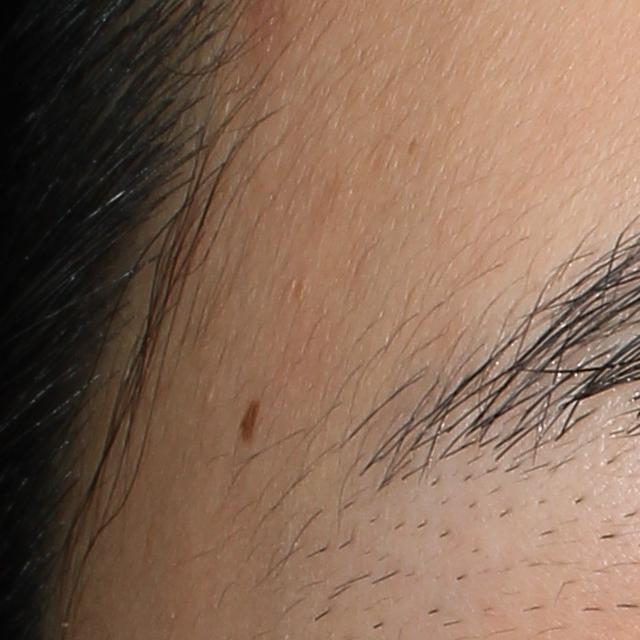nevus: (237, 399, 263, 447)
